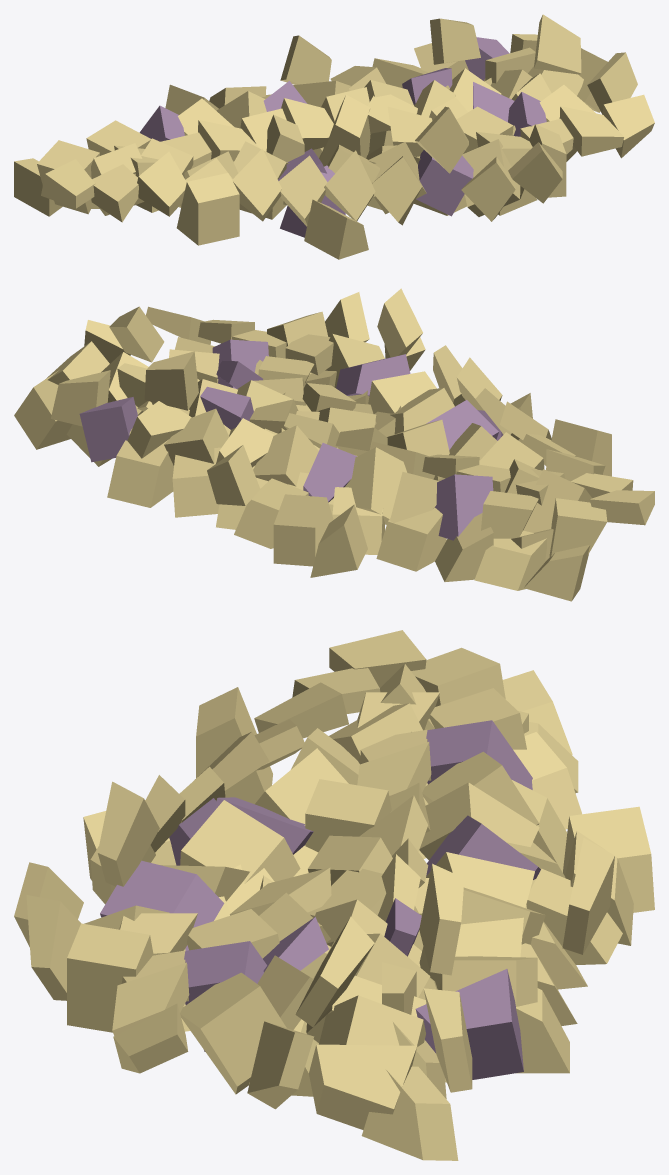
The model's file is chopped_onions.fbx.
3 renders of one model, top to bottom at view 1: azimuth 30°, elevation 25°; view 2: azimuth 150°, elevation 25°; view 3: azimuth 270°, elevation 25°, orthographic. The views are drawn at different scales.
Visible parts, largest first — view 1: pCube60, pCube61, pCube57, pCube100, pCube53, pCube42, pCube85, pCube46, pCube94, pCube45, pCube44, pCube52 (+60 smaller); view 2: pCube1, pCube9, pCube4, pCube17, pCube2, pCube15, pCube48, pCube23, pCube32, pCube19, pCube40, pCube8 (+64 smaller); view 3: pCube91, pCube84, pCube80, pCube23, pCube55, pCube78, pCube48, pCube57, pCube45, pCube17, pCube12, pCube60 (+66 smaller).
Part boxes in pixels (bbox=[...]): pCube60: bbox=[176, 173, 239, 245]; pCube61: bbox=[304, 199, 368, 259]; pCube57: bbox=[416, 150, 473, 216]; pCube100: bbox=[534, 14, 581, 74]; pCube53: bbox=[232, 148, 281, 221]; pCube42: bbox=[137, 151, 186, 216]; pCube85: bbox=[319, 94, 370, 166]; pCube46: bbox=[324, 150, 375, 221]; pCube94: bbox=[559, 106, 623, 156]; pCube45: bbox=[415, 106, 468, 173]; pCube44: bbox=[372, 156, 422, 225]; pCube52: bbox=[278, 155, 327, 226]; pCube1: bbox=[273, 494, 333, 566]; pCube9: bbox=[107, 428, 173, 507]; pCube4: bbox=[376, 508, 446, 571]; pCube17: bbox=[345, 447, 407, 524]; pCube2: bbox=[474, 530, 546, 590]; pCube15: bbox=[435, 474, 493, 540]; pCube48: bbox=[310, 504, 367, 577]; pCube23: bbox=[79, 397, 137, 462]; pCube32: bbox=[144, 351, 198, 410]; pCube19: bbox=[253, 425, 318, 486]; pCube40: bbox=[549, 498, 607, 557]; pCube8: bbox=[172, 447, 221, 517]; pCube91: bbox=[309, 1044, 417, 1129]; pCube84: bbox=[180, 972, 286, 1094]; pCube80: bbox=[67, 923, 153, 1032]; pCube23: bbox=[415, 969, 523, 1079]; pCube55: bbox=[180, 800, 300, 883]; pCube78: bbox=[361, 1066, 458, 1160]; pCube48: bbox=[563, 806, 654, 912]; pCube57: bbox=[100, 860, 224, 950]; pCube45: bbox=[97, 781, 159, 886]; pCube17: bbox=[419, 782, 539, 859]; pCube12: bbox=[305, 779, 391, 852]; pCube60: bbox=[196, 687, 272, 803].
Bounding box in the file's own units: 14.36 × 3.15 × 8.66.
